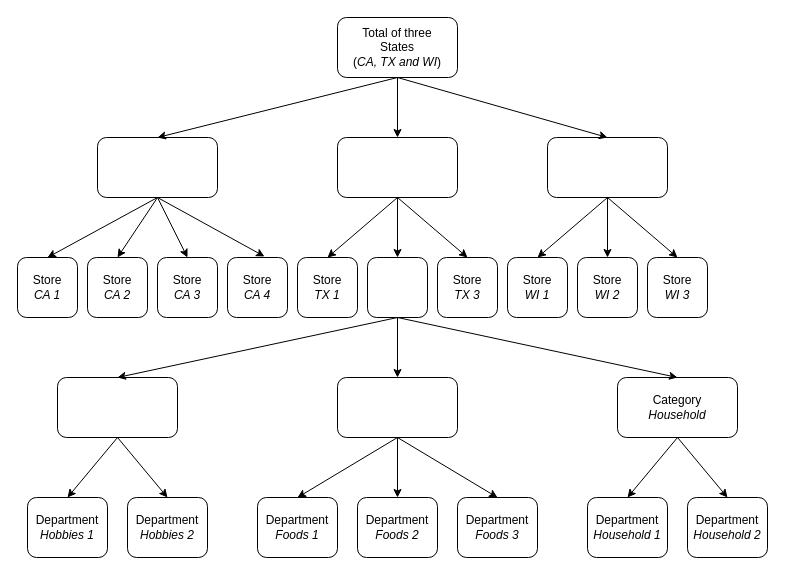
Some shapes in this 785 by 575 pixel diagram are drawn without their labels. Each missing label, with the centre of its shape:
"Category Foods" belongs at pixel 397 407.
"Category Hobbies" belongs at pixel 117 407.
"State CA" belongs at pixel 157 167.
"State TX" belongs at pixel 397 167.
"State WI" belongs at pixel 607 167.
"Store TX 2" belongs at pixel 397 287.
